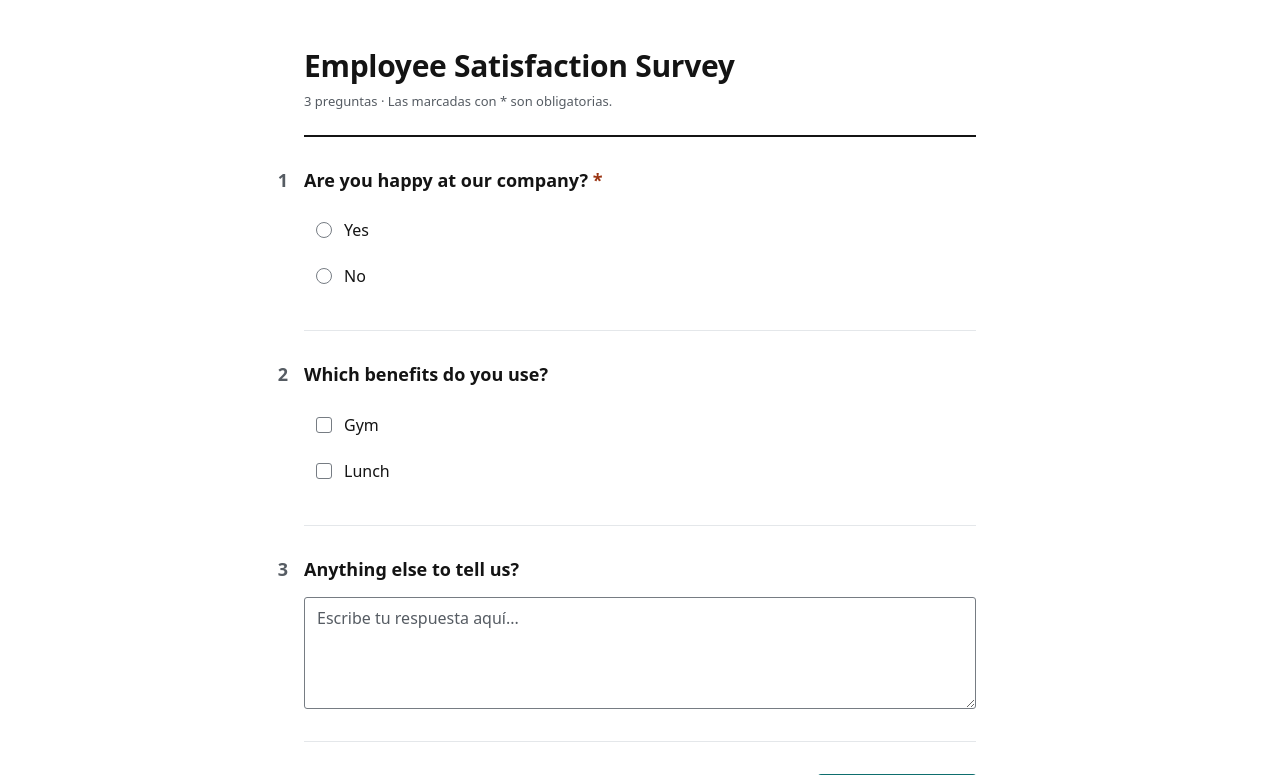
Test case: SurveyAnsweringPage (REQ-FE-023, REQ-FE-024, REQ-FE-034) › AC-FE-023-5: an API error other than 403 shows its detail in a toast and keeps the entered values
Click the radio button named "No" next to "No".
click(324, 276)  # box 316,268 -> 332,284
(page scrolled)
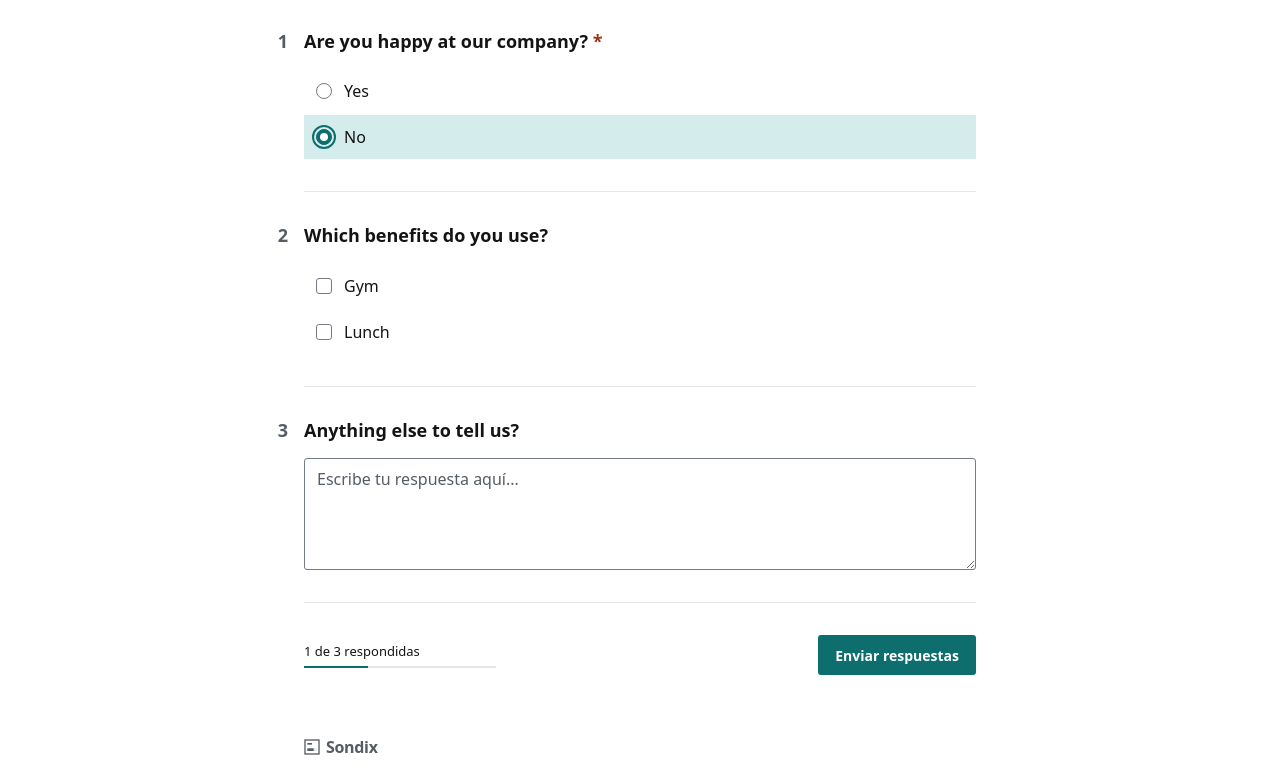
Click the button "Enviar respuestas".
click(897, 655)  # box 818,635 -> 976,675
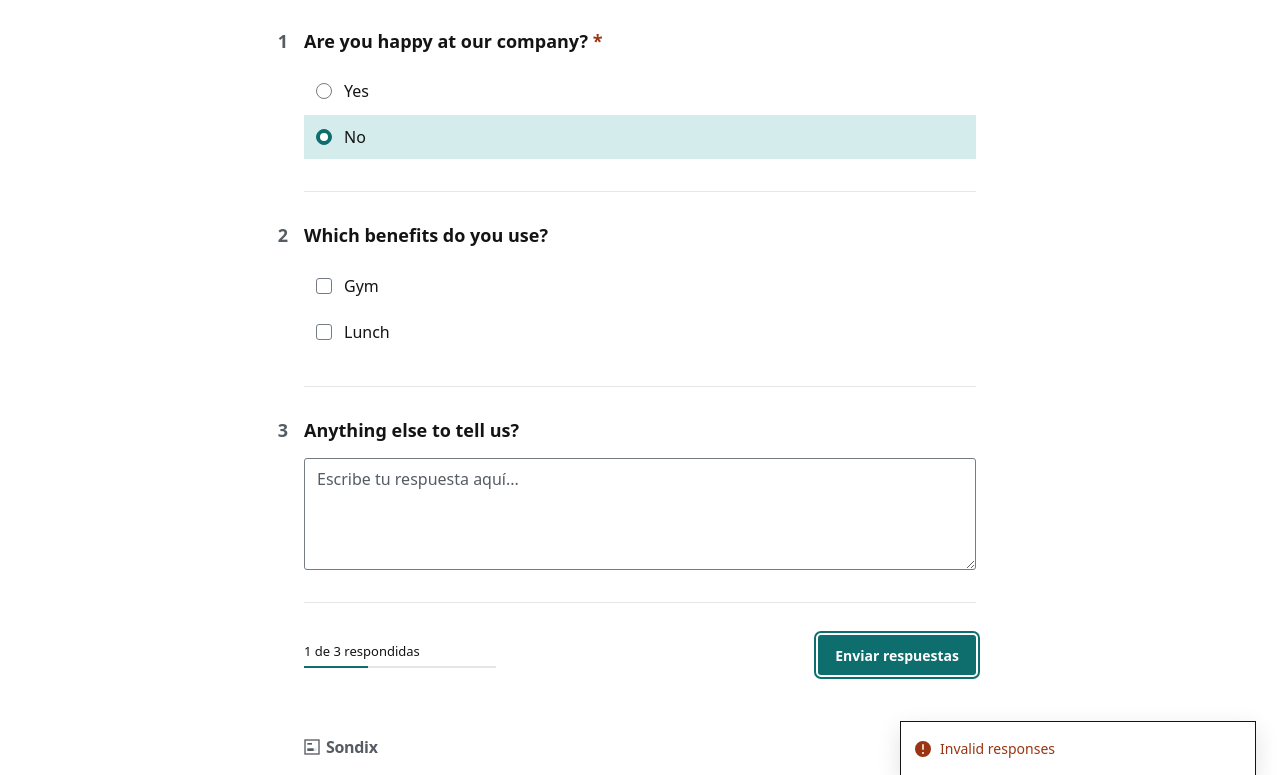
Now the text "Invalid responses" is shown, box 940,738 -> 1055,759
